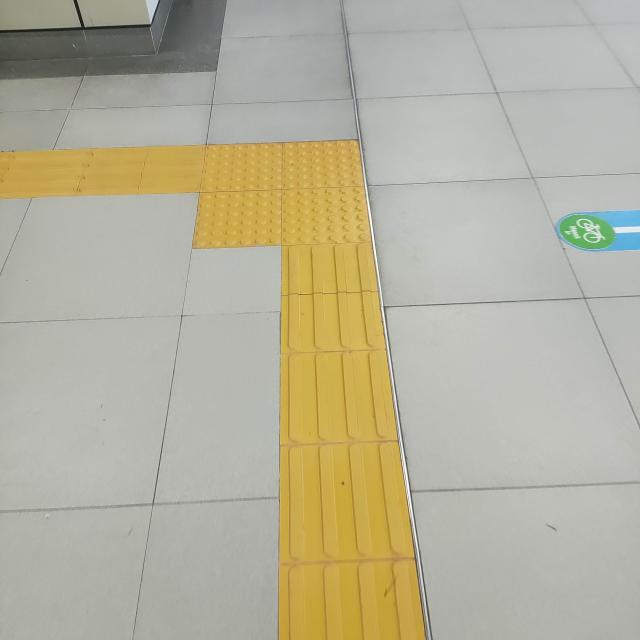kiri: (57, 109, 433, 324)
